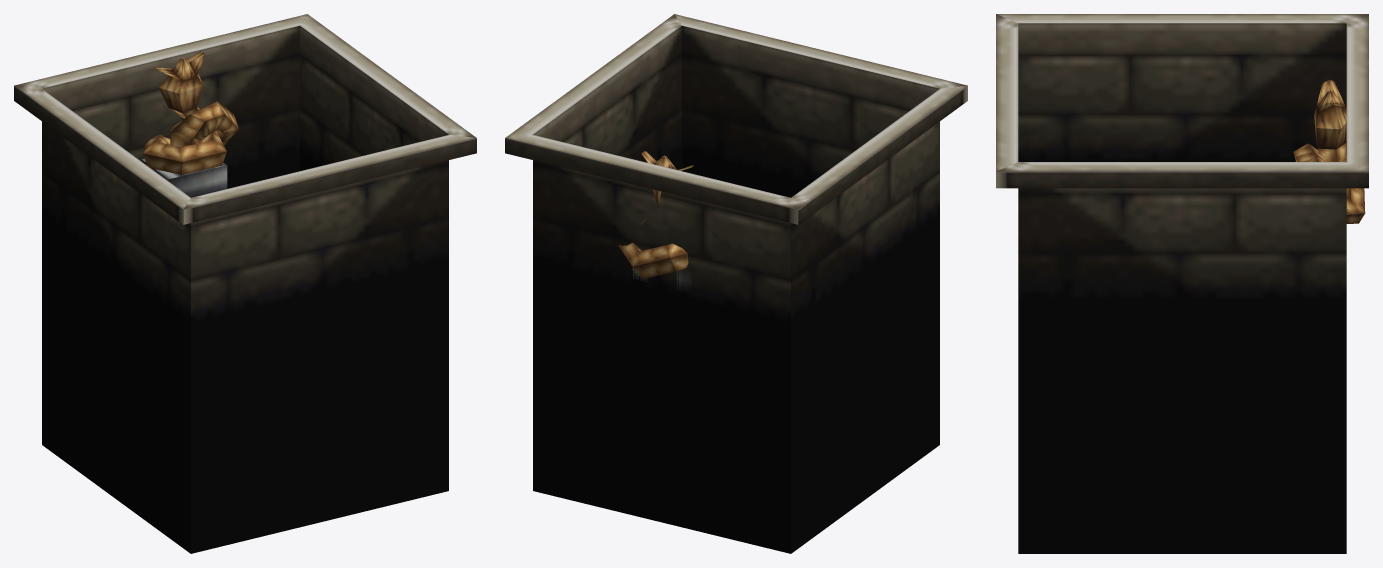
The model's file is Inside_Poly_Hole_Rope_01_Down.obj.
The picture shows the model from 3 angles, left to right: view 1: azimuth 30°, elevation 25°; view 2: azimuth 150°, elevation 25°; view 3: azimuth 270°, elevation 25°; orthographic projection. The views are drawn at different scales.
Parts seen in each view (by area): view 1: Cube.001, Cube_Cube.002, Cube.001_Cube.002; view 2: Cube.001, Cube_Cube.002; view 3: Cube.001, Cube_Cube.002.
Part boxes in pixels (x1,y1,x2,y2): Cube.001: (14,14,476,553); Cube_Cube.002: (142,51,238,174); Cube.001_Cube.002: (141,159,227,197); Cube.001: (505,14,967,553); Cube_Cube.002: (618,151,693,279); Cube.001: (996,14,1368,553); Cube_Cube.002: (1293,80,1365,223).
Bounding box in the file's own units: 1 × 1.19 × 1.
1 material, 1 textured.
